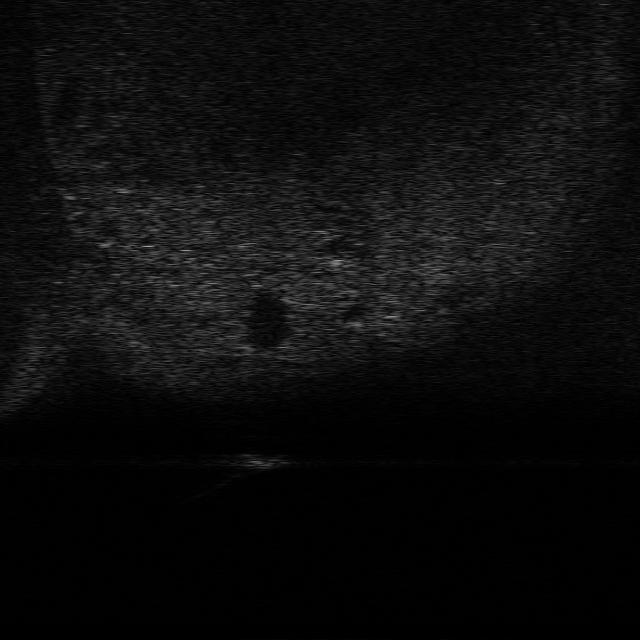cube: (232, 451, 290, 469)
